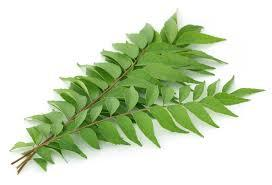healthy_leaf: (27, 16, 245, 157)
